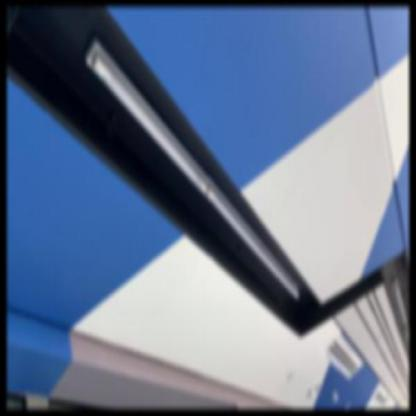light_off: (82, 37, 306, 316)
